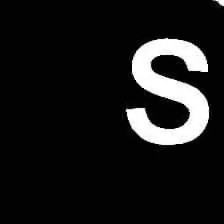LTR_S: (117, 31, 212, 150)
